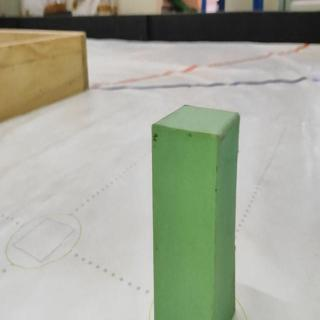greenbox: (149, 101, 242, 320)
